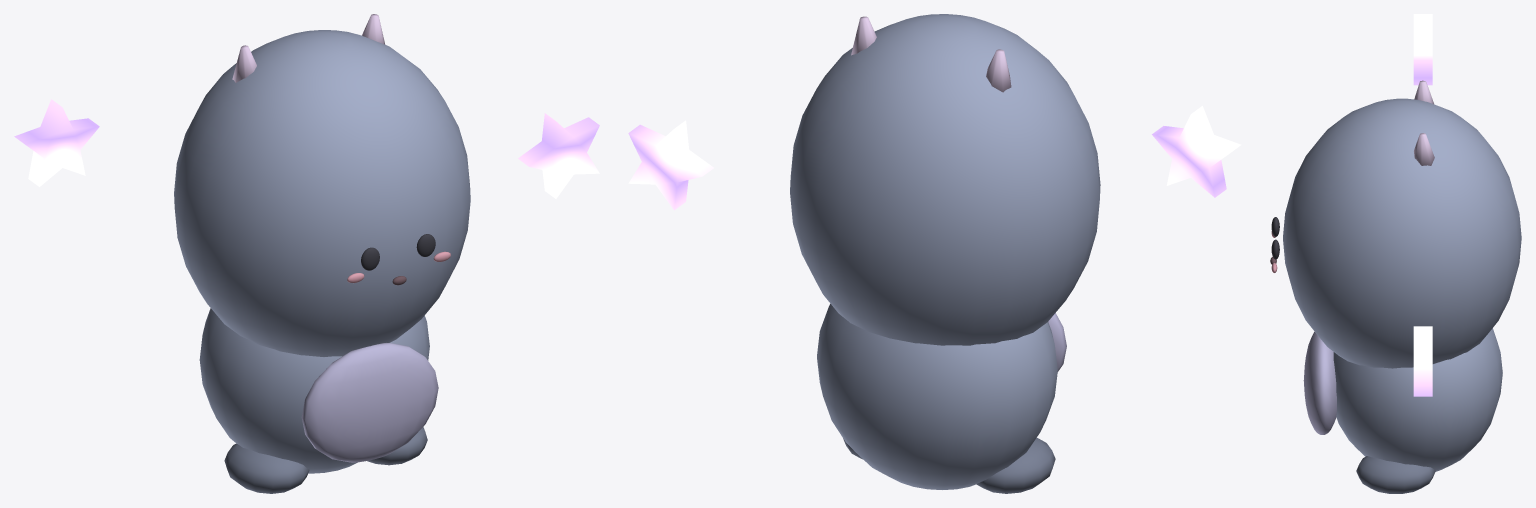
Rendered from meteor-hatchling.glb.
3 views of the same model, side by side, from view 1: azimuth 30°, elevation 25°; view 2: azimuth 150°, elevation 25°; view 3: azimuth 270°, elevation 25° (orthographic). The views are drawn at different scales.
Visible parts, largest first — view 1: Head, Body, Belly, StarMote_R, StarMote_L, FootPad_L, FootPad_R; view 2: Head, Body, StarMote_R, StarMote_L, FootPad_L, Horn_L; view 3: Head, Body, Belly, FootPad_R, StarMote_R, StarMote_L, Horn_R.
Part boxes in pixels (x1,y1,x2,y2): Head: [174, 30, 470, 356]; Body: [199, 308, 429, 473]; Belly: [301, 343, 438, 462]; StarMote_R: [518, 113, 599, 198]; StarMote_L: [14, 99, 99, 186]; FootPad_L: [224, 443, 309, 493]; FootPad_R: [367, 427, 427, 465]; Head: [790, 14, 1100, 345]; Body: [817, 304, 1057, 489]; StarMote_R: [628, 120, 713, 210]; StarMote_L: [1152, 106, 1241, 197]; FootPad_L: [976, 438, 1055, 493]; Horn_L: [986, 49, 1011, 92]; Head: [1283, 98, 1521, 368]; Body: [1333, 328, 1502, 471]; Belly: [1303, 331, 1336, 434]; FootPad_R: [1356, 456, 1435, 493]; StarMote_R: [1413, 326, 1432, 396]; StarMote_L: [1413, 14, 1432, 85]; Horn_R: [1414, 133, 1434, 165].
Size of the model in its own units: 1.32 by 0.9431 by 0.6.
